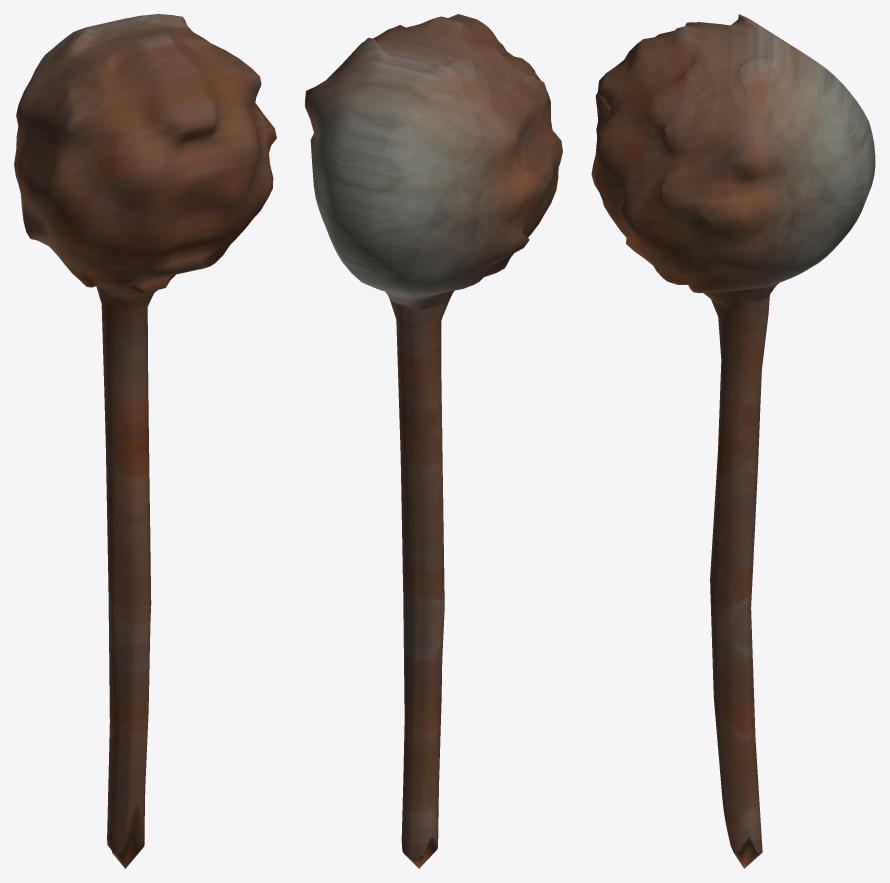
The model's file is Kesh_Mace.fbx.
3 renders of one model, left to right at view 1: azimuth 30°, elevation 25°; view 2: azimuth 150°, elevation 25°; view 3: azimuth 270°, elevation 25°, orthographic. The views are drawn at different scales.
Parts seen in each view (by area): view 1: Kesh_mace; view 2: Kesh_mace; view 3: Kesh_mace.
Boxes of the visible parts, box(x1,y1,x2,y2) form: Kesh_mace: box(14, 14, 276, 868); Kesh_mace: box(305, 14, 562, 868); Kesh_mace: box(591, 14, 875, 868).
Bounding box in the file's own units: 2.68 × 9.32 × 2.86.
